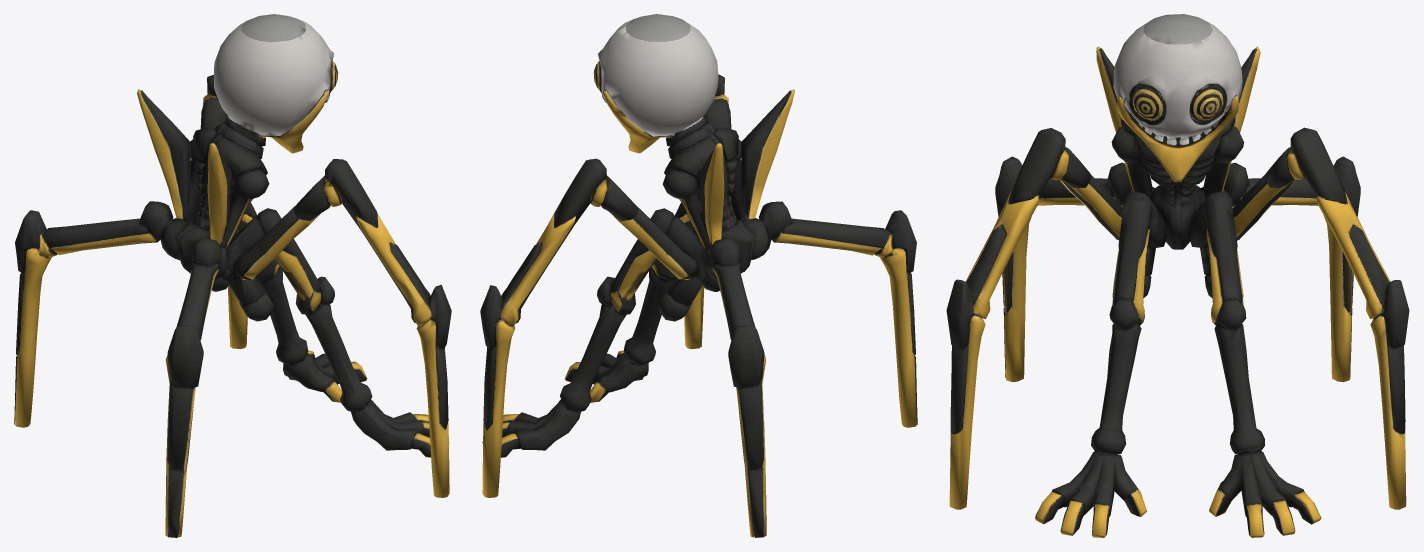
Rendered from Smiler-Spider.glb.
The picture shows the model from 3 angles, left to right: view 1: azimuth 30°, elevation 25°; view 2: azimuth 150°, elevation 25°; view 3: azimuth 270°, elevation 25°; orthographic projection. The views are drawn at different scales.
Parts seen in each view (by area): view 1: tripo_node_04d5c2ce-bf35-4c87-b641-f812407f3ecf; view 2: tripo_node_04d5c2ce-bf35-4c87-b641-f812407f3ecf; view 3: tripo_node_04d5c2ce-bf35-4c87-b641-f812407f3ecf.
Boxes of the visible parts, bbox=[...] form: tripo_node_04d5c2ce-bf35-4c87-b641-f812407f3ecf: bbox=[14, 14, 451, 537]; tripo_node_04d5c2ce-bf35-4c87-b641-f812407f3ecf: bbox=[480, 14, 917, 537]; tripo_node_04d5c2ce-bf35-4c87-b641-f812407f3ecf: bbox=[946, 14, 1409, 537].
Size of the model in its own units: 0.7615 by 0.978 by 0.9099.
Materials: 1 (1 with a texture image).
